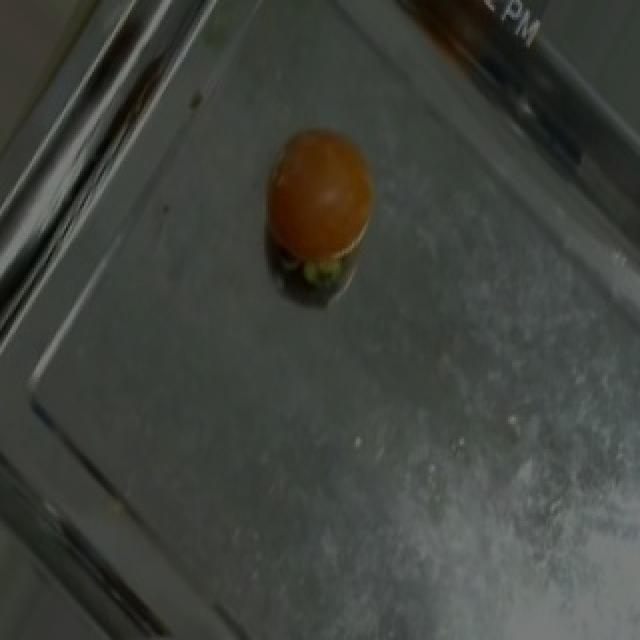Fruit: (238, 109, 398, 300)
